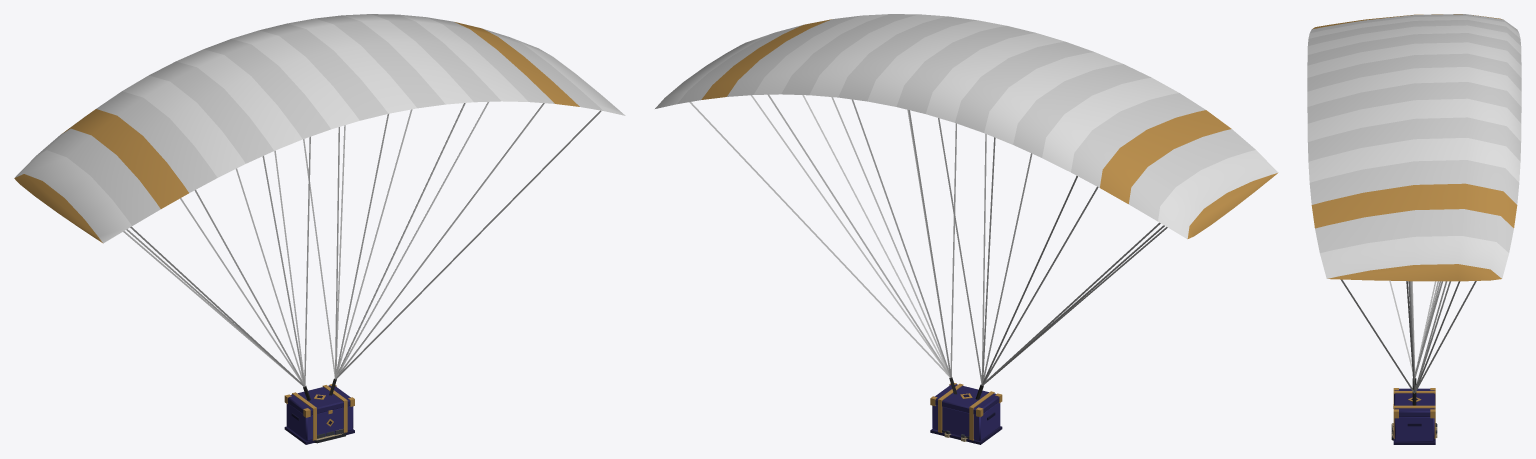
The model's file is props.glb.
3 renders of one model, left to right at view 1: azimuth 30°, elevation 25°; view 2: azimuth 150°, elevation 25°; view 3: azimuth 270°, elevation 25°, orthographic. The views are drawn at different scales.
Visible parts, largest first — view 1: parachute, crate; view 2: parachute, crate; view 3: parachute, crate.
Boxes of the visible parts, x1,y1,x2,y2 form: parachute: (14, 14, 625, 400); crate: (284, 384, 354, 444); parachute: (655, 14, 1278, 399); crate: (930, 383, 1002, 444); parachute: (1307, 14, 1521, 405); crate: (1393, 388, 1435, 444).
Size of the model in its own units: 6.83 by 4.72 by 2.45.
